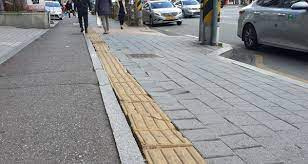guide_blocks: (124, 98, 200, 163), (99, 54, 145, 98), (89, 33, 112, 53)
